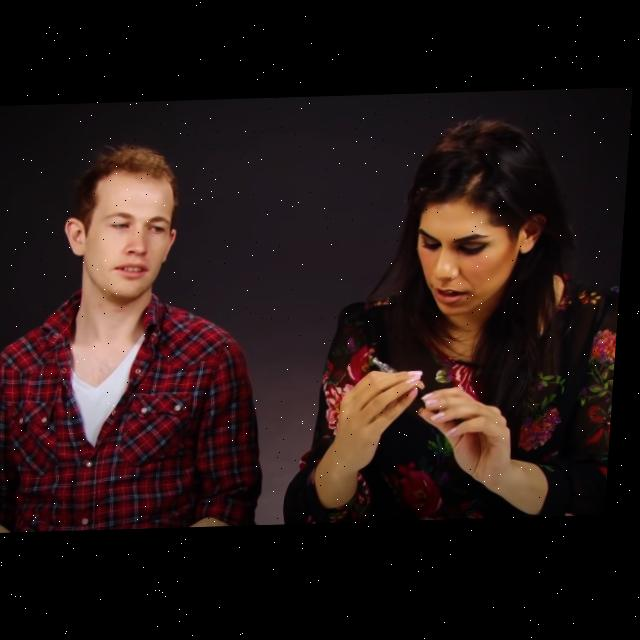vape: (377, 360, 402, 377)
